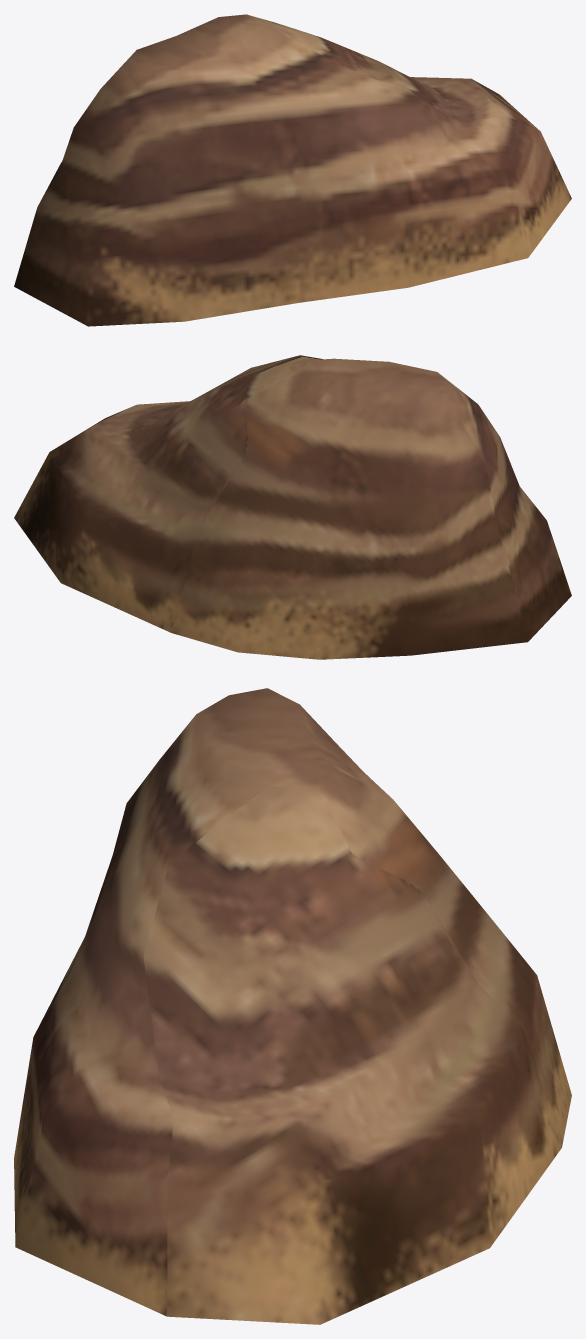
File: shitou12.FBX
3 views of the same model, one above another, from view 1: azimuth 30°, elevation 25°; view 2: azimuth 150°, elevation 25°; view 3: azimuth 270°, elevation 25° (orthographic). The views are drawn at different scales.
Visible parts, largest first — view 1: shitou12; view 2: shitou12; view 3: shitou12.
Boxes of the visible parts, x1=… form: shitou12: x1=14, y1=14, x2=571, y2=326; shitou12: x1=14, y1=355, x2=571, y2=659; shitou12: x1=14, y1=688, x2=571, y2=1324.
Size of the model in its own units: 285 by 116 by 175.
